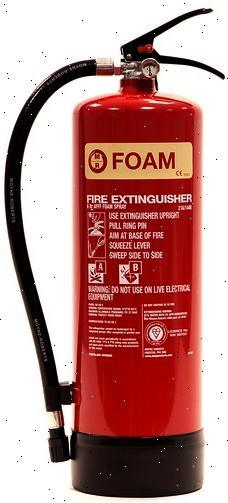Fire Extinguisher: (1, 6, 228, 501)
